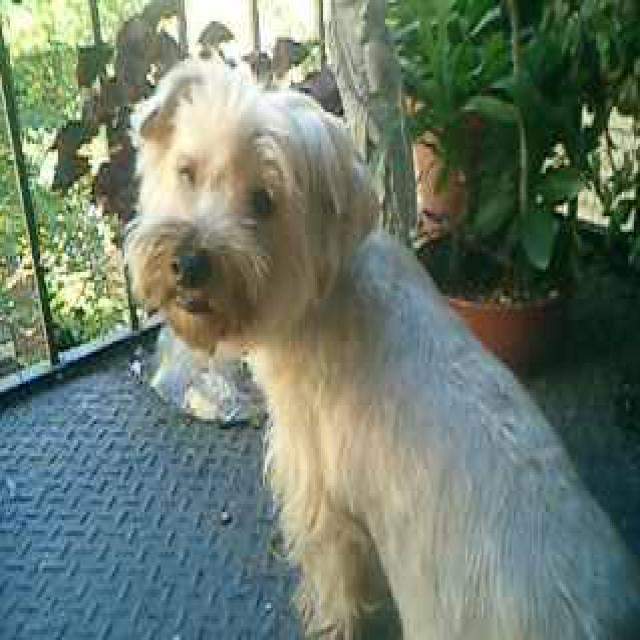dog: (122, 51, 638, 637)
